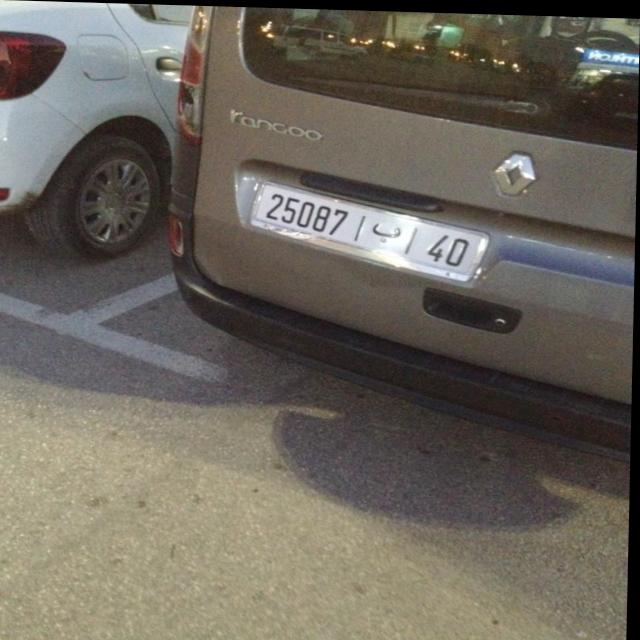License-Plate: (256, 184, 483, 271)
